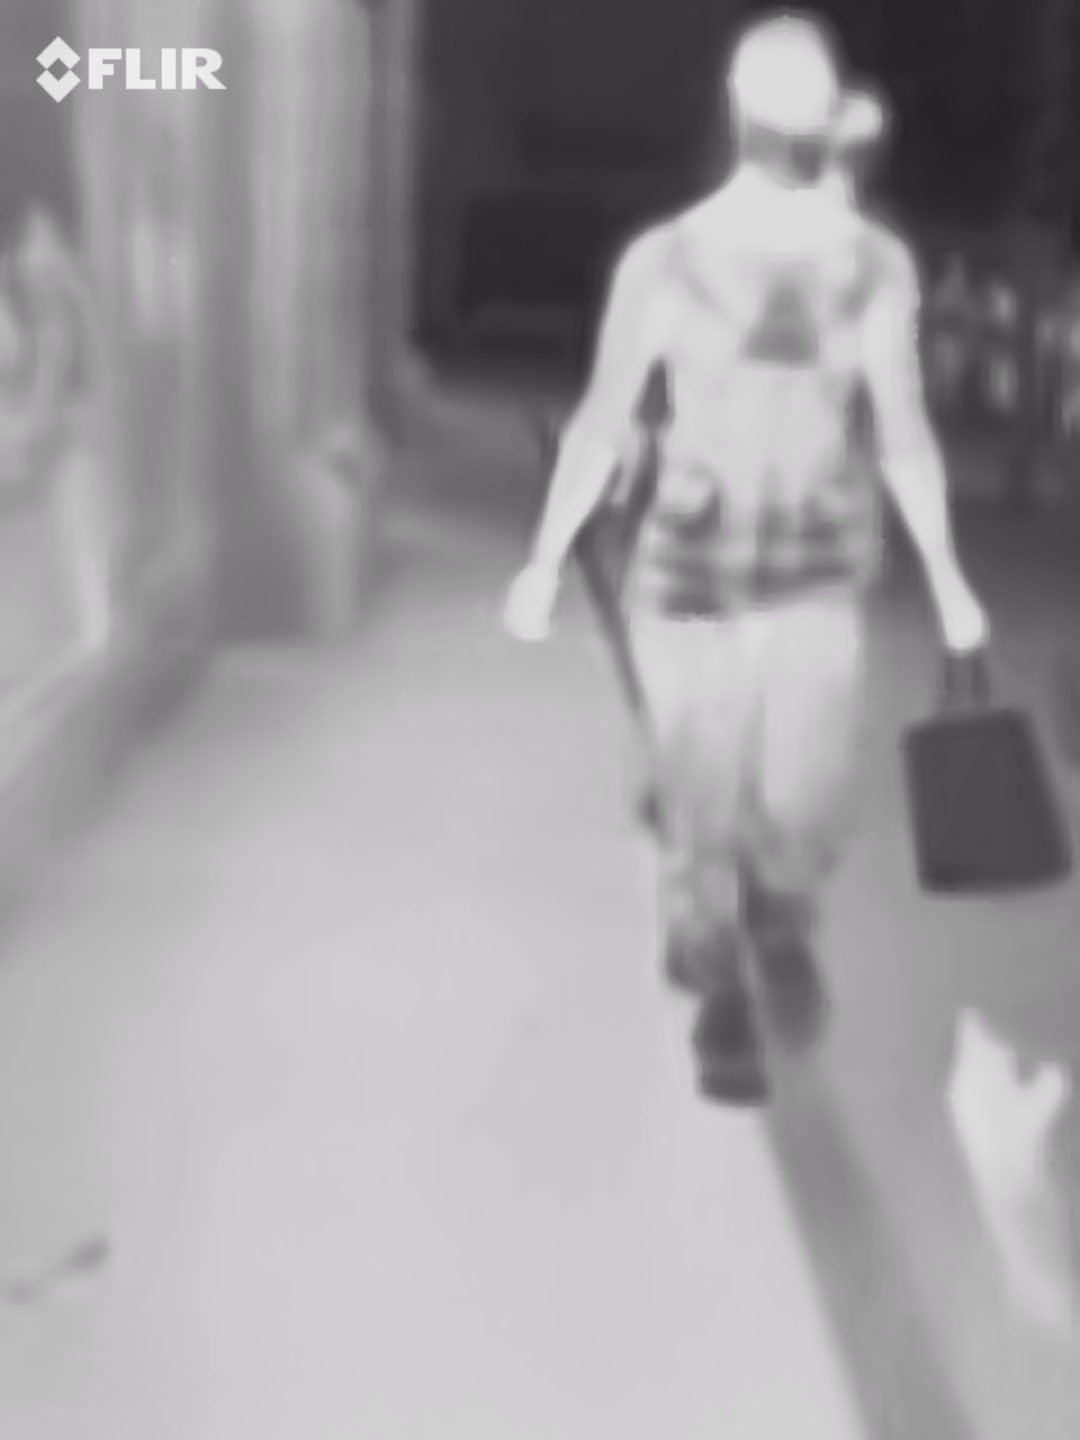head: (719, 15, 841, 203)
